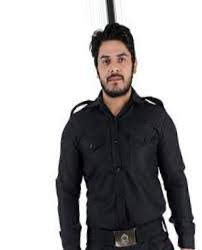uniform: (52, 93, 193, 245)
